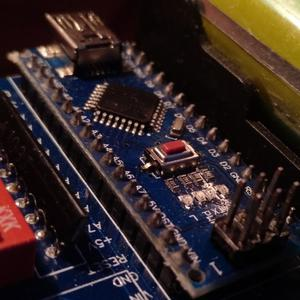duino: (4, 9, 294, 294)
